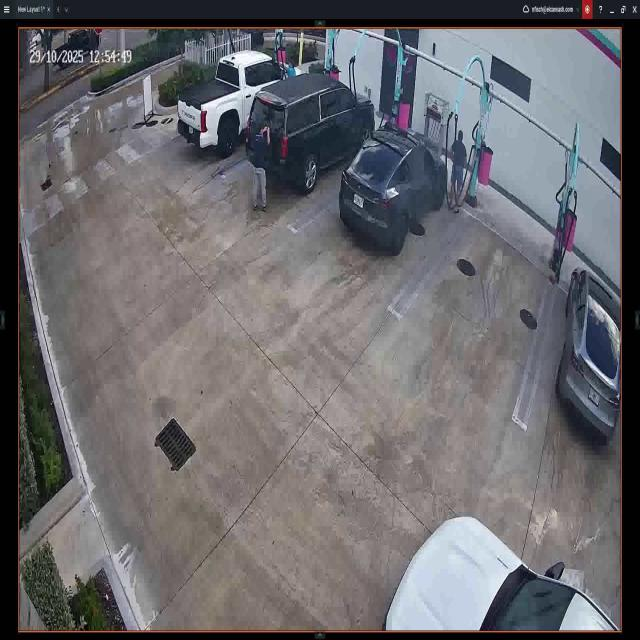Car: (384, 514, 620, 632), (248, 70, 374, 189), (178, 48, 303, 156), (340, 130, 448, 254), (556, 266, 622, 438)
